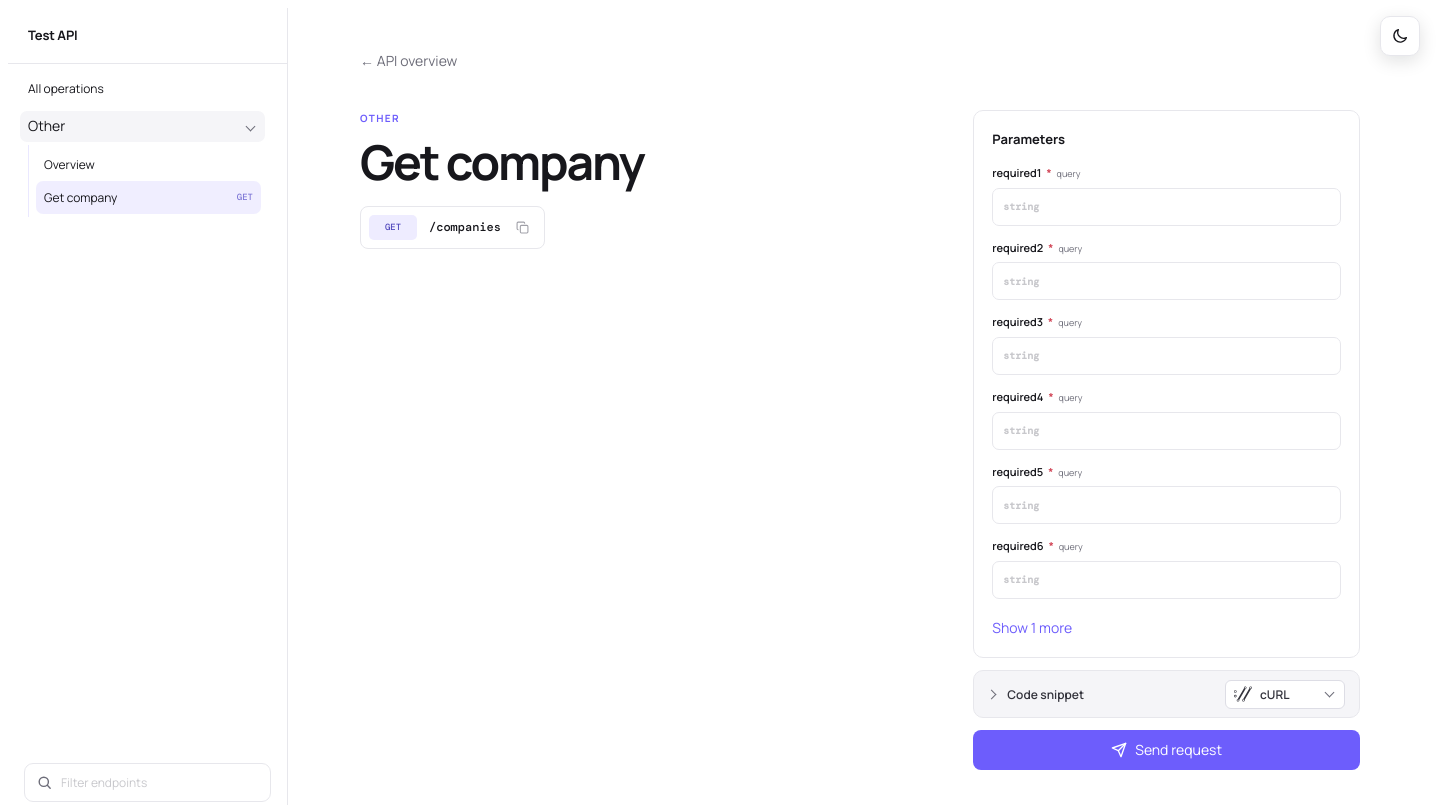
Test: endpoint parameter layout › keeps required request fields visible while collapsing optional fields
Expected: the text "required6" is shown, [992,538,1044,553]
Expected: the text "optional" is not shown
Click the button "Show 1 more": (1032, 628) [992,617,1072,639]
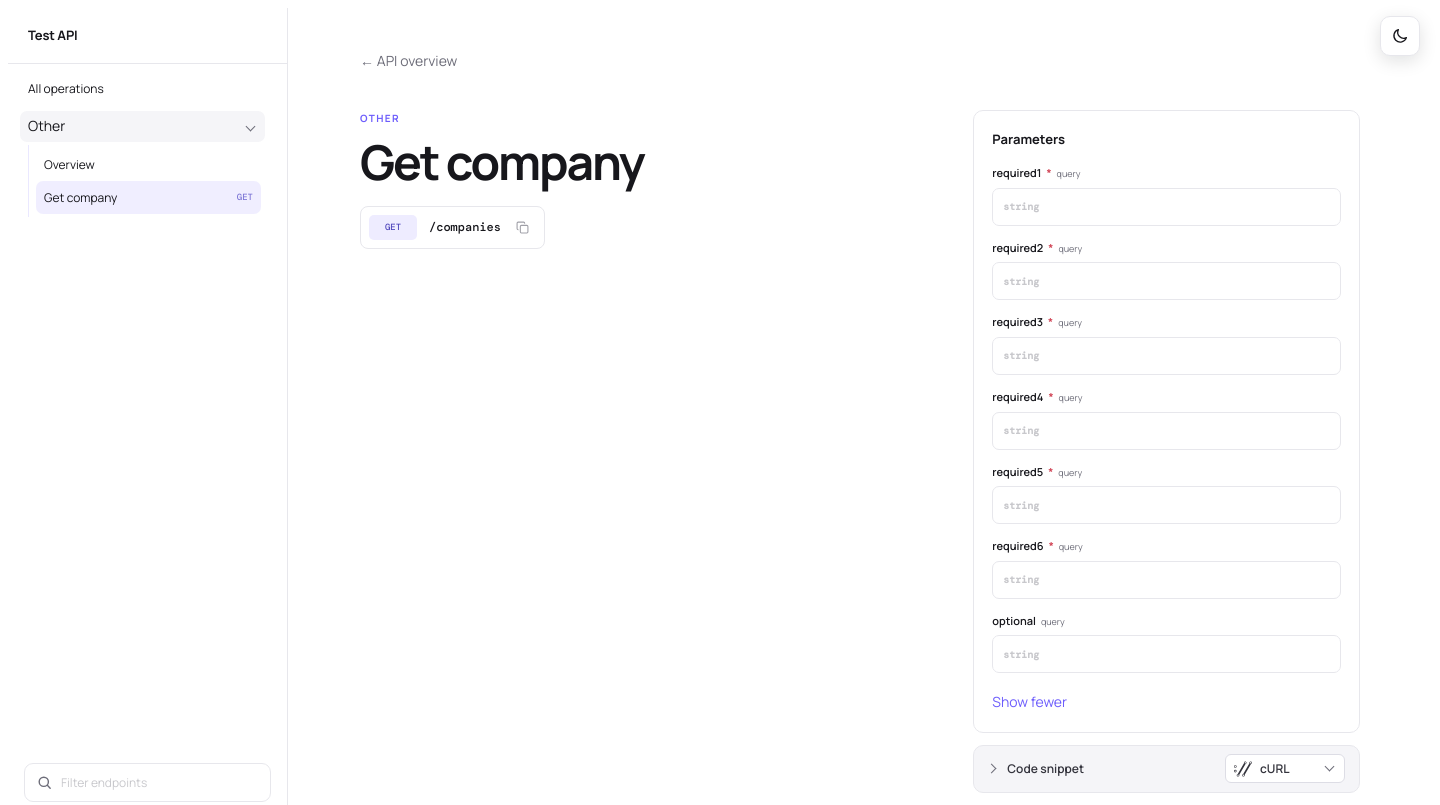
Expected: the text "optional" is shown, [992,613,1036,628]
